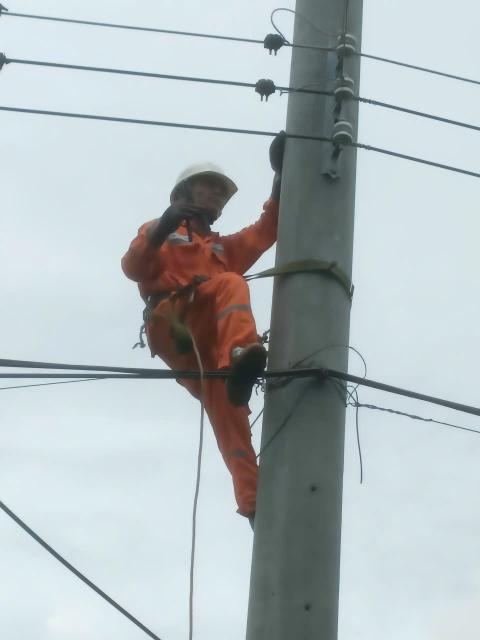gloves: (146, 200, 207, 240), (262, 127, 293, 198)
harness: (132, 271, 306, 312)
helmet: (168, 158, 245, 205)
shoes: (217, 336, 276, 404)
